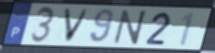1: (179, 12, 195, 47)
2: (142, 9, 174, 47)
3: (29, 5, 57, 45)
9: (88, 7, 115, 45)
N: (112, 9, 149, 46)
V: (62, 7, 92, 44)
